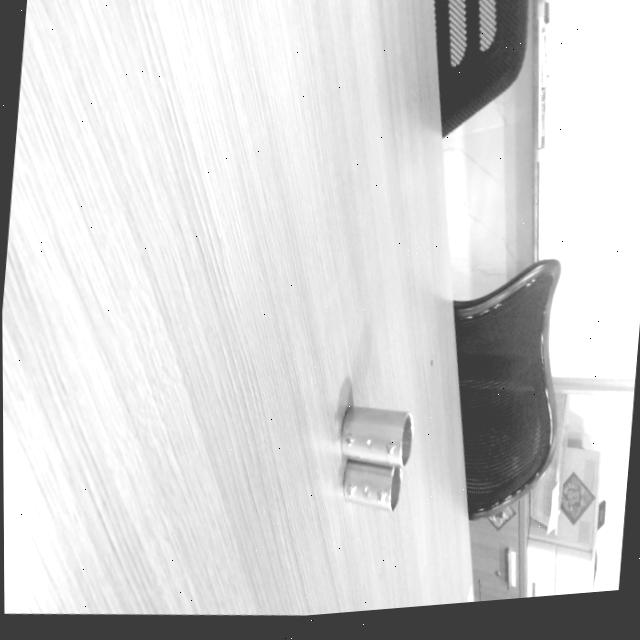Co_Lon: (338, 403, 415, 467)
Co_Nho: (339, 458, 403, 511)
